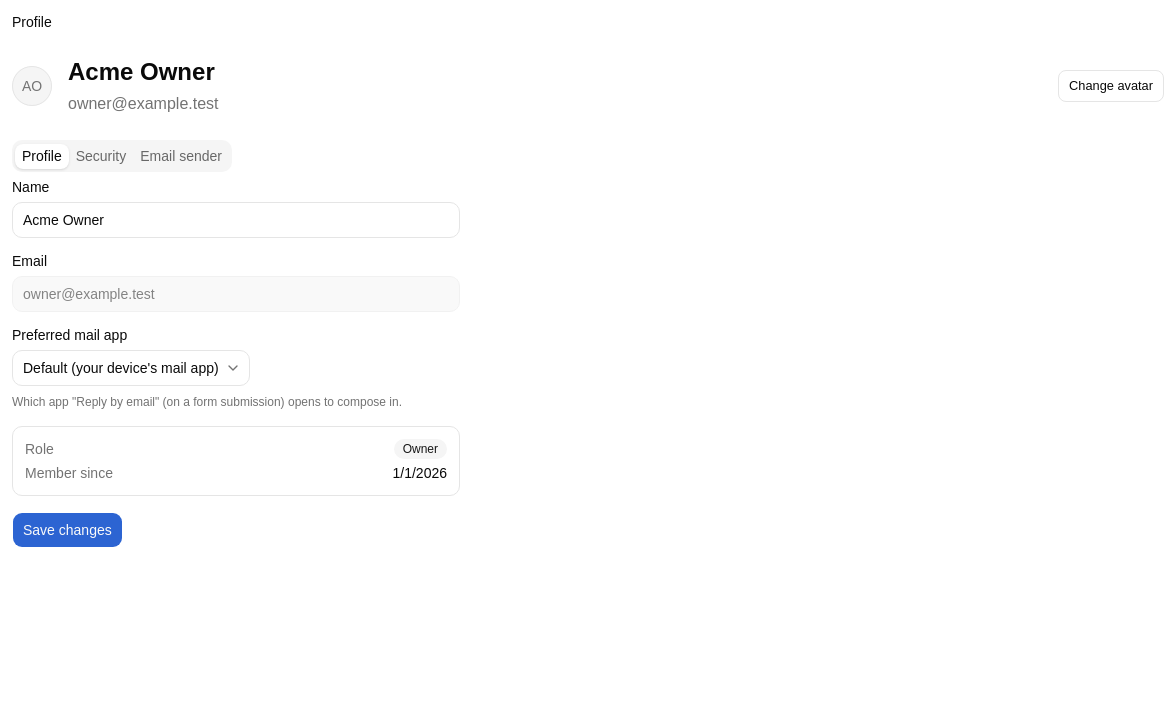
Test: ProfilePage › shows owner-only recovery codes and transfer-ownership controls for the owner, linking to Users instead of duplicating it
The width and height of the screenshot is (1176, 704).
Click the tab "Security" at (101, 156), box [69,144,133,168]
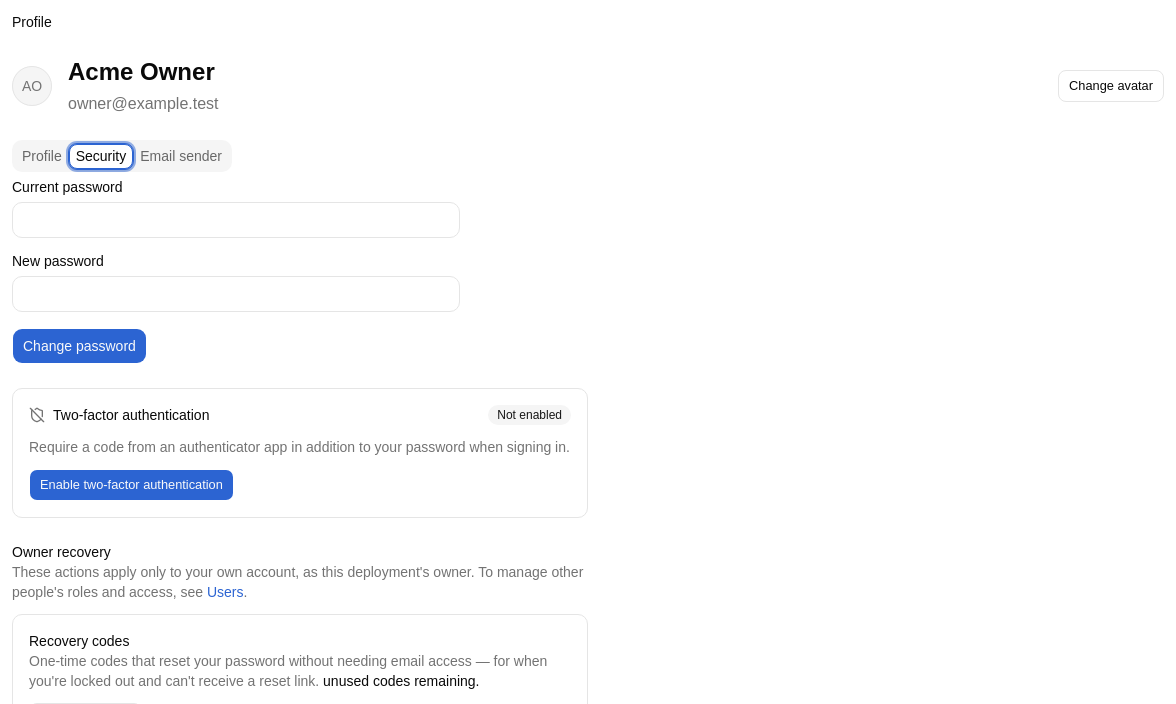
Check: the text "Recovery codes" is shown, box [29,633,129,649]
